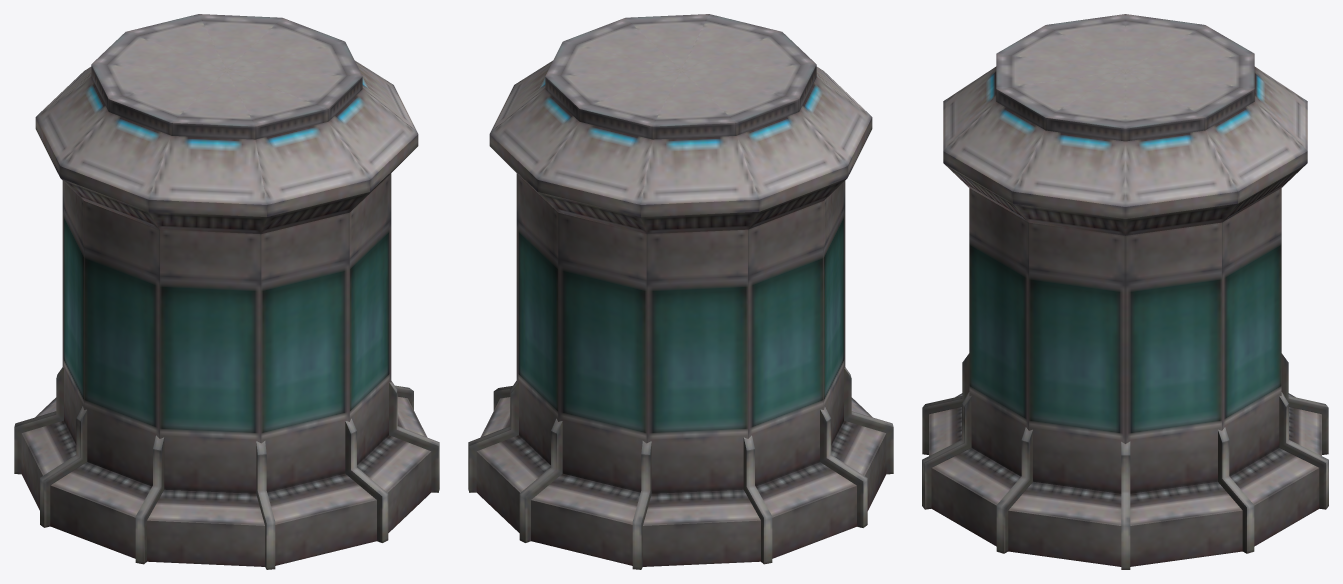
The model's file is zc_lekesigang_yuanzhu02.FBX.
The picture shows the model from 3 angles, left to right: view 1: azimuth 30°, elevation 25°; view 2: azimuth 150°, elevation 25°; view 3: azimuth 270°, elevation 25°; orthographic projection.
Visible parts, largest first — view 1: zc_lekesigang_yuanzhu02; view 2: zc_lekesigang_yuanzhu02; view 3: zc_lekesigang_yuanzhu02.
Part boxes in pixels (left/top/right/bottom): zc_lekesigang_yuanzhu02: left=14, top=14, right=439, bottom=569; zc_lekesigang_yuanzhu02: left=468, top=14, right=893, bottom=569; zc_lekesigang_yuanzhu02: left=922, top=14, right=1328, bottom=569.
Bounding box in the file's own units: 341 × 363 × 327.
